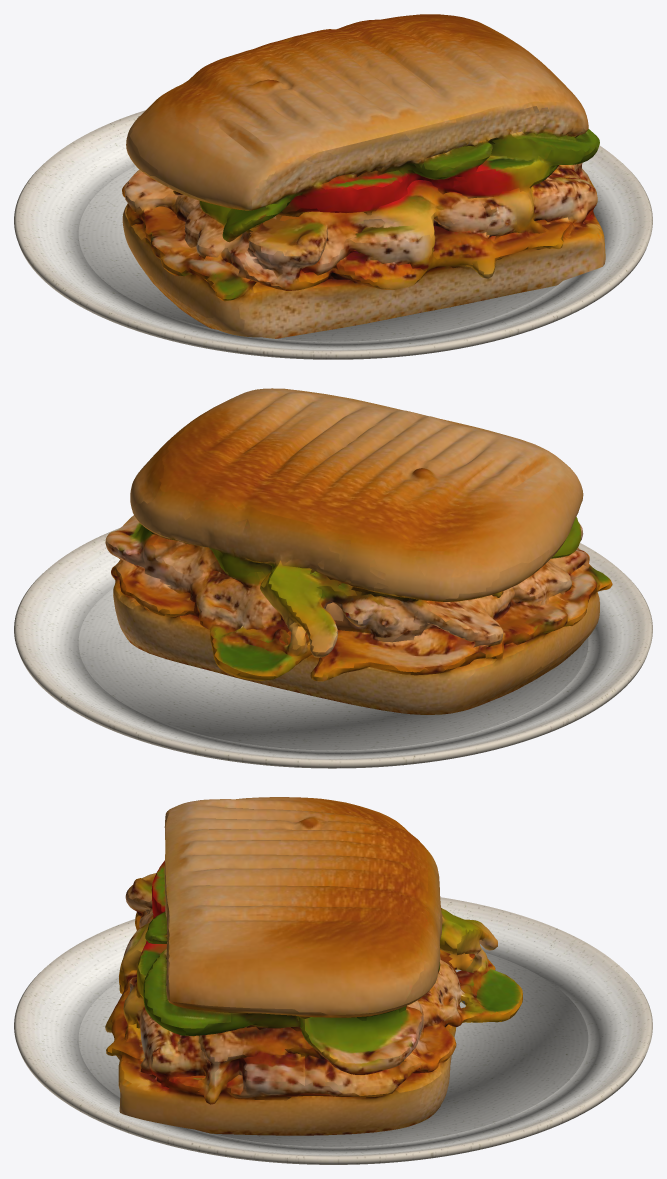
File: sandwich.glb
3 renders of one model, top to bottom at view 1: azimuth 30°, elevation 25°; view 2: azimuth 150°, elevation 25°; view 3: azimuth 270°, elevation 25°, orthographic.
Visible parts, largest first — view 1: textured_mesh.obj, plato; view 2: textured_mesh.obj, plato; view 3: textured_mesh.obj, plato.
Boxes of the visible parts, left/top/right/bottom form: textured_mesh.obj: left=122, top=14, right=605, bottom=338; plato: left=14, top=110, right=652, bottom=359; textured_mesh.obj: left=105, top=388, right=612, bottom=714; plato: left=14, top=527, right=652, bottom=768; textured_mesh.obj: left=105, top=797, right=522, bottom=1135; plato: left=14, top=897, right=652, bottom=1164.
Bounding box in the file's own units: 0.2283 × 0.0798 × 0.2283.
Materials: 2 (2 with a texture image).
